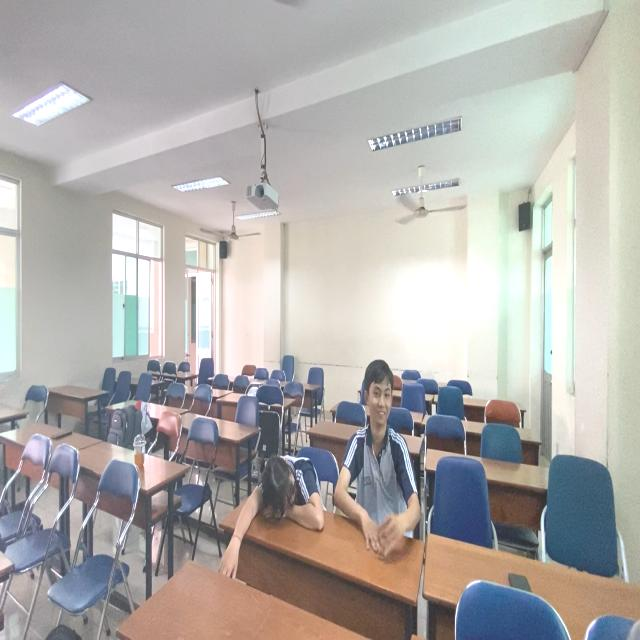sleep: (244, 451, 326, 546)
